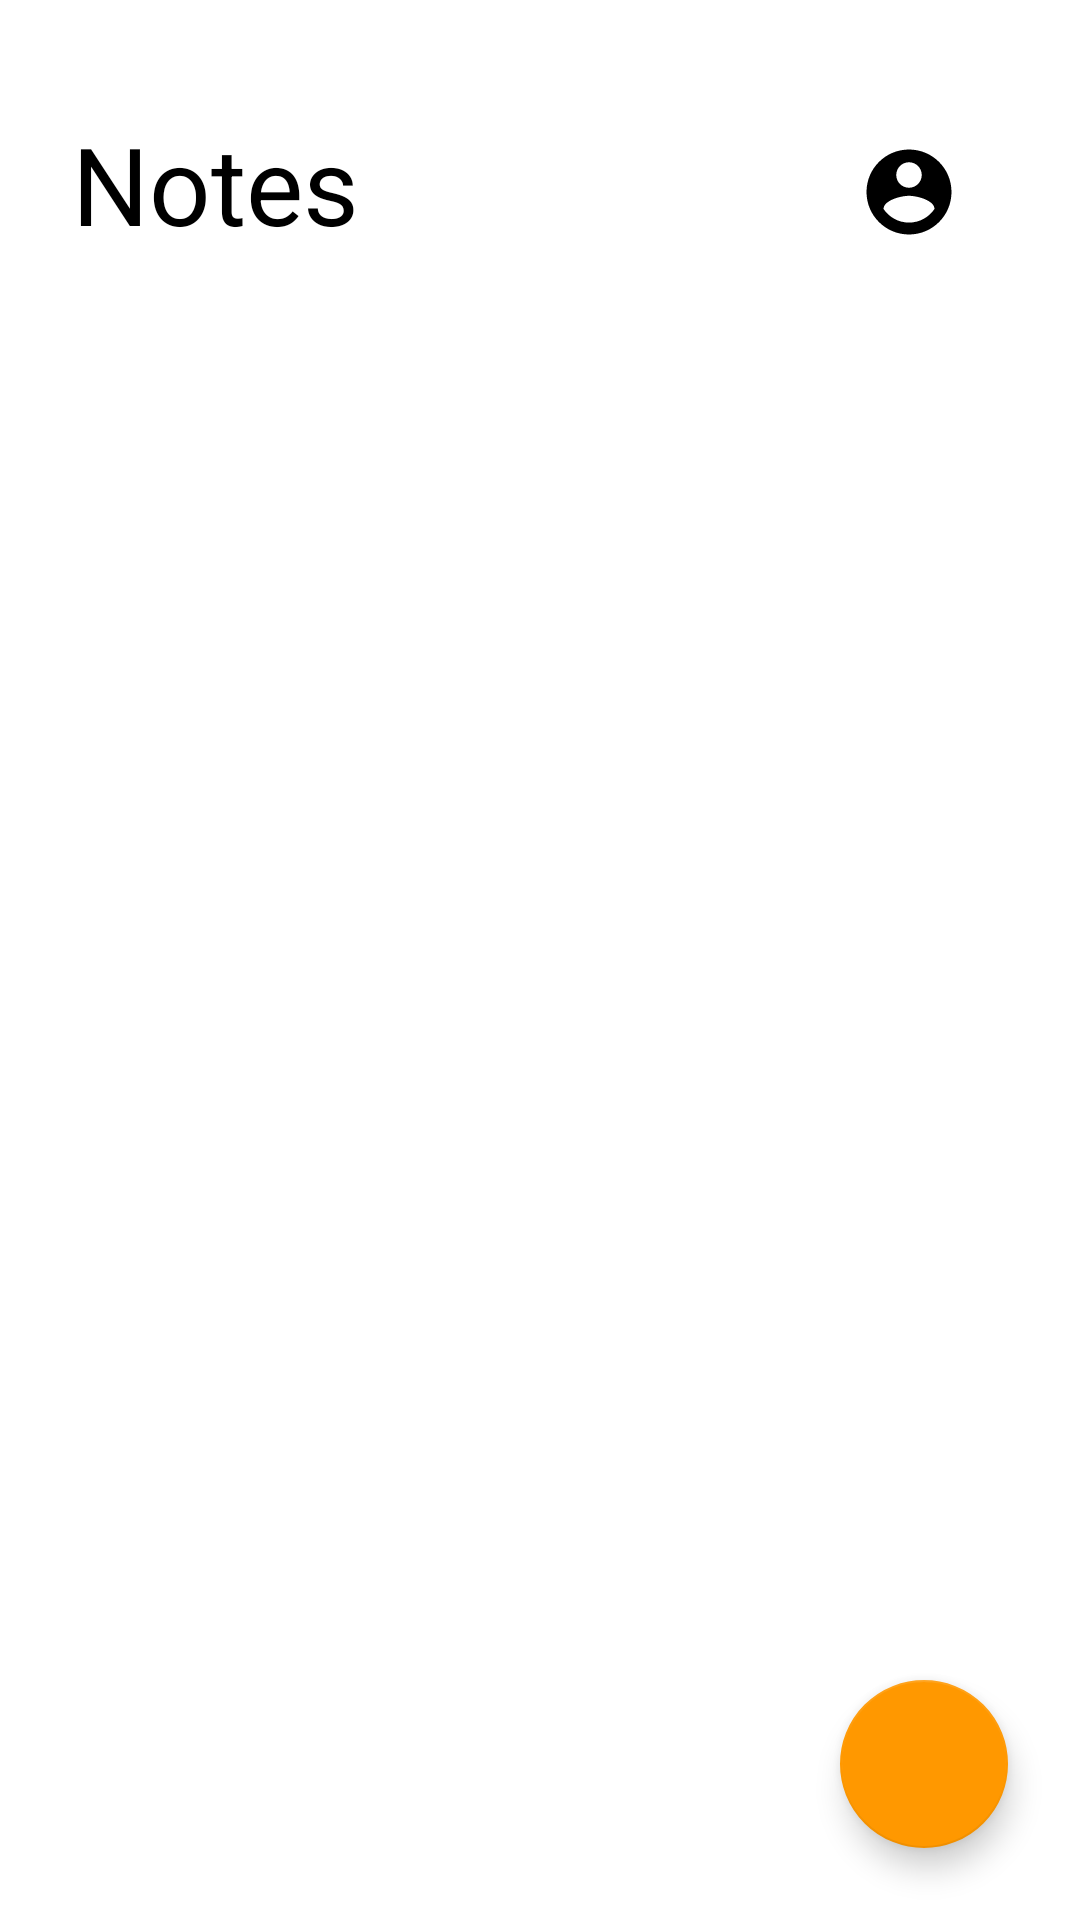

Named icons in this screenshot (1080×1920) and their centers, point (x, y):
profile: point (909, 192)
